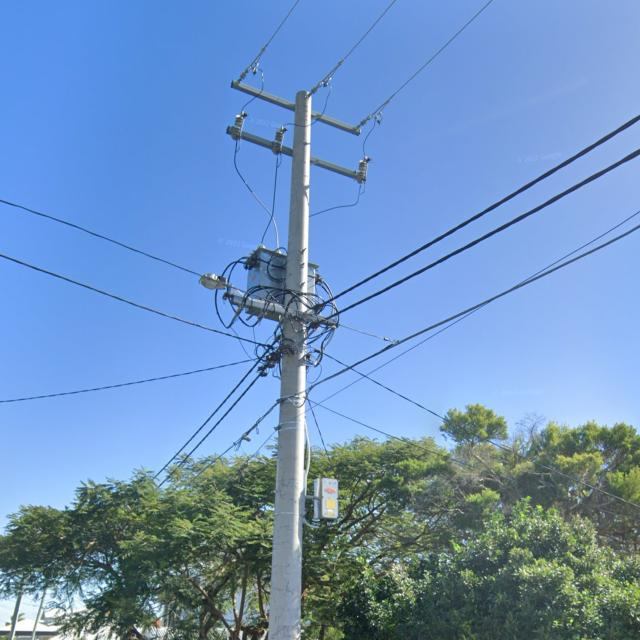HV-transmission: (230, 67, 372, 183)
concrete-pole: (265, 89, 313, 640)
crossarm: (231, 80, 364, 136), (226, 126, 358, 180), (230, 294, 340, 328)
streetlight: (198, 272, 234, 295)
transformer: (242, 246, 316, 323)
